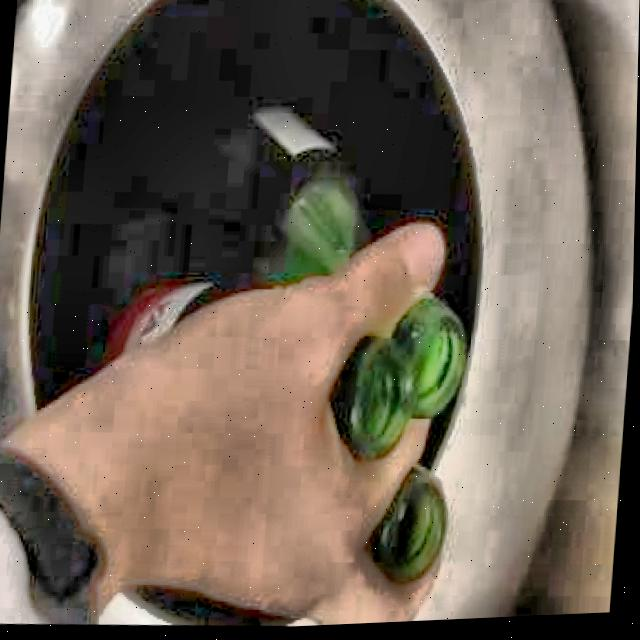glass: (110, 108, 367, 359), (329, 297, 469, 467), (368, 471, 449, 588)
